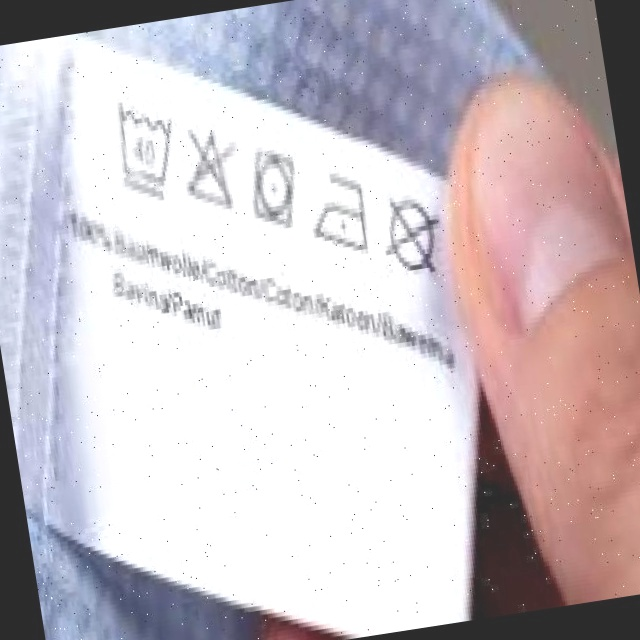40C: (99, 97, 185, 202)
DN_bleach: (174, 124, 247, 217)
DN_dry_clean: (374, 189, 450, 283)
iron_low: (304, 167, 378, 259)
tumble_dry_low: (241, 146, 306, 232)
